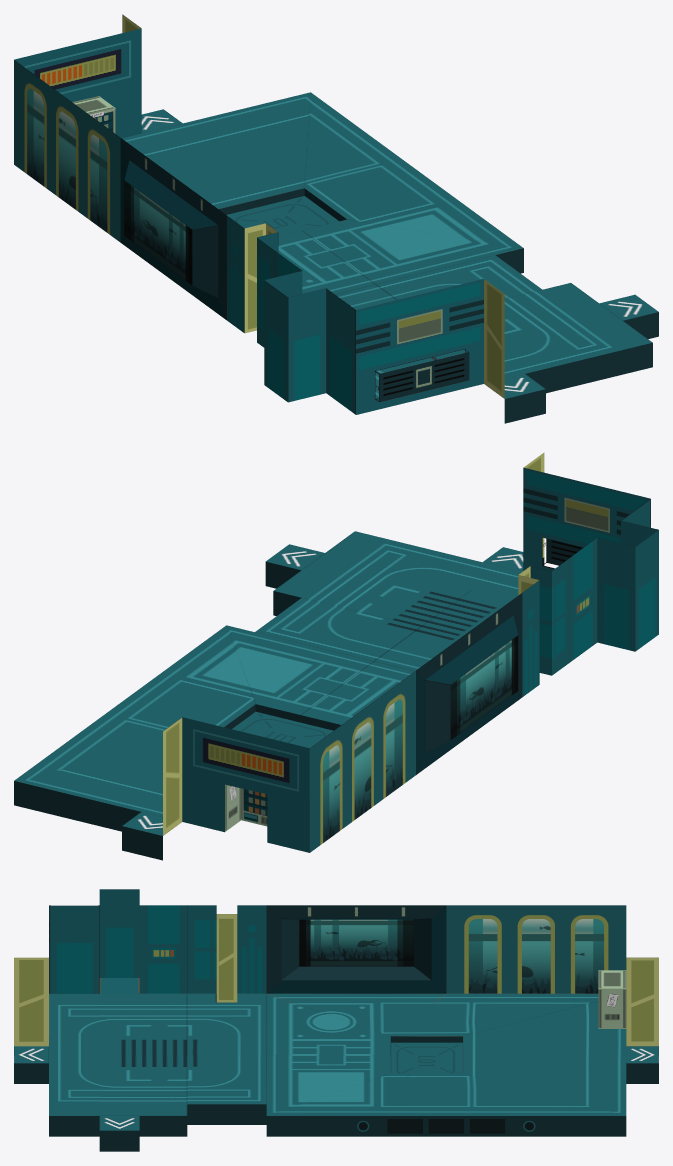
The model's file is big_level (2).fbx.
3 views of the same model, one above another, from view 1: azimuth 30°, elevation 25°; view 2: azimuth 150°, elevation 25°; view 3: azimuth 270°, elevation 25° (orthographic). The views are drawn at different scales.
Parts seen in each view (by area): view 1: 5; view 2: 5; view 3: 5.
Boxes of the visible parts, box(x1,y1,x2,y2) form: 5: box(14, 14, 658, 423); 5: box(14, 452, 658, 860); 5: box(14, 889, 658, 1151).
Bounding box in the file's own units: 794 × 265 × 1417.
Materials: 1 (1 with a texture image).
